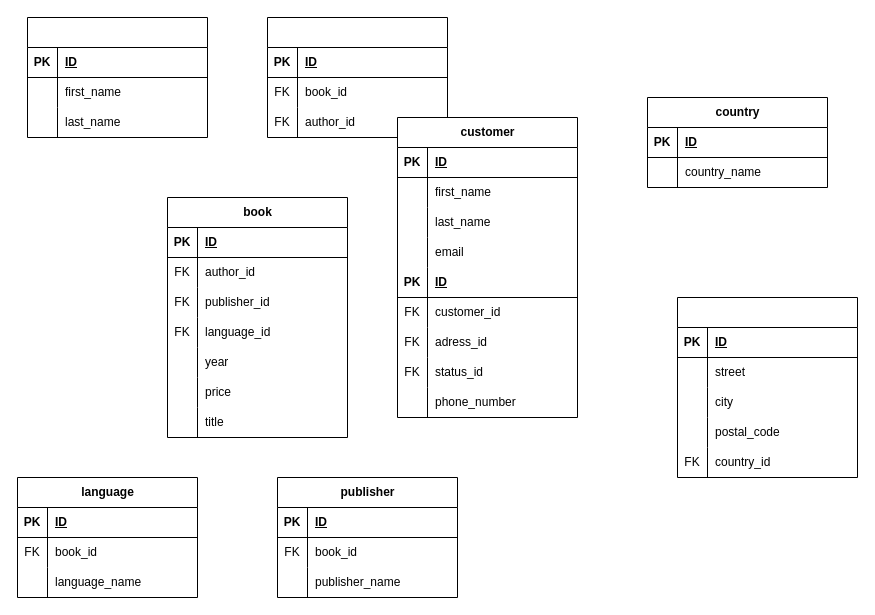
This 875x615 diagram has some shape labels left out. The shapes that lost their labels are listed below. From the top down, each one's box as (x1, y1, x2, y2) in pixels, then its label:
(26, 16, 208, 138): author
(266, 16, 448, 138): book_author
(676, 296, 858, 478): address
